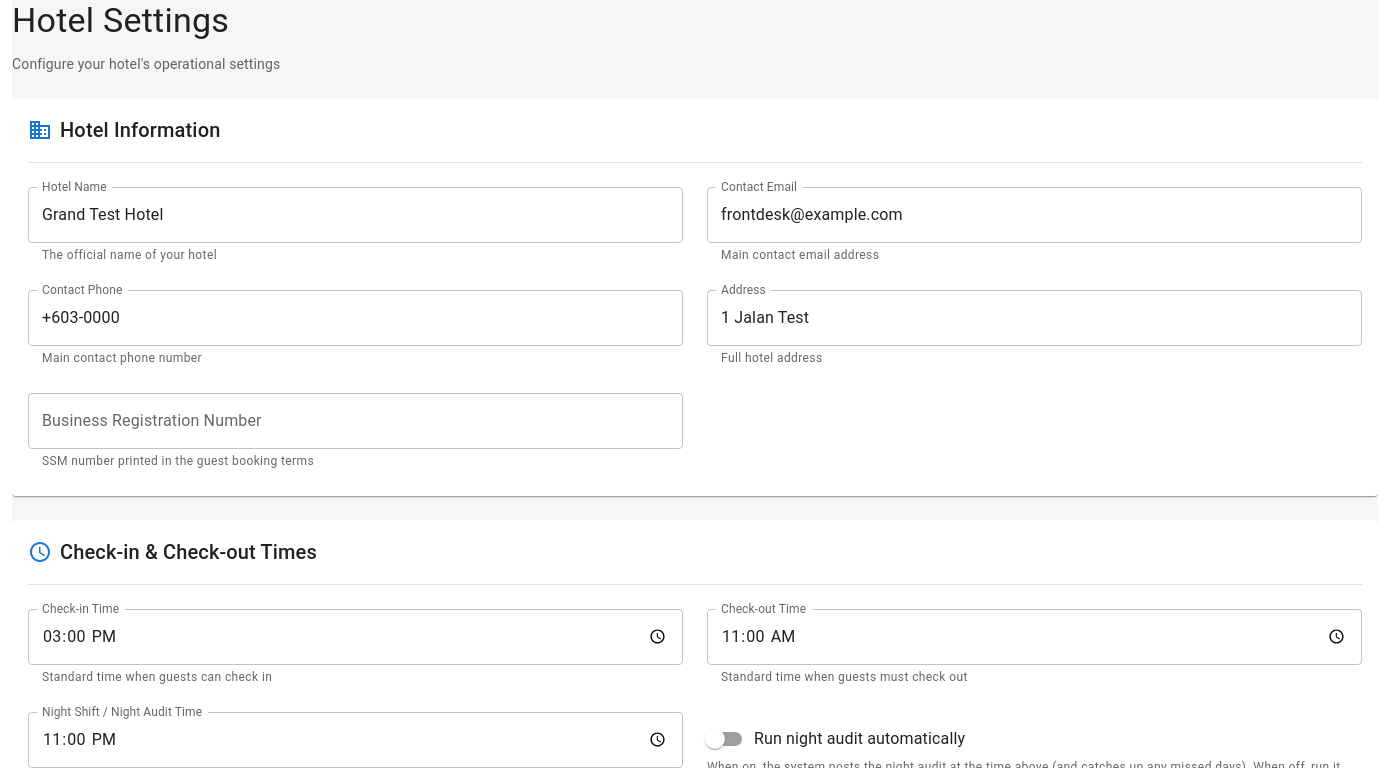
SettingsPage › reloads settings from the server via Reset Changes
The width and height of the screenshot is (1390, 768).
Replace the text in the field labelled "Hotel Name" with "Discarded Edit" at (356,215), box [28, 187, 683, 243]
(page scrolled)
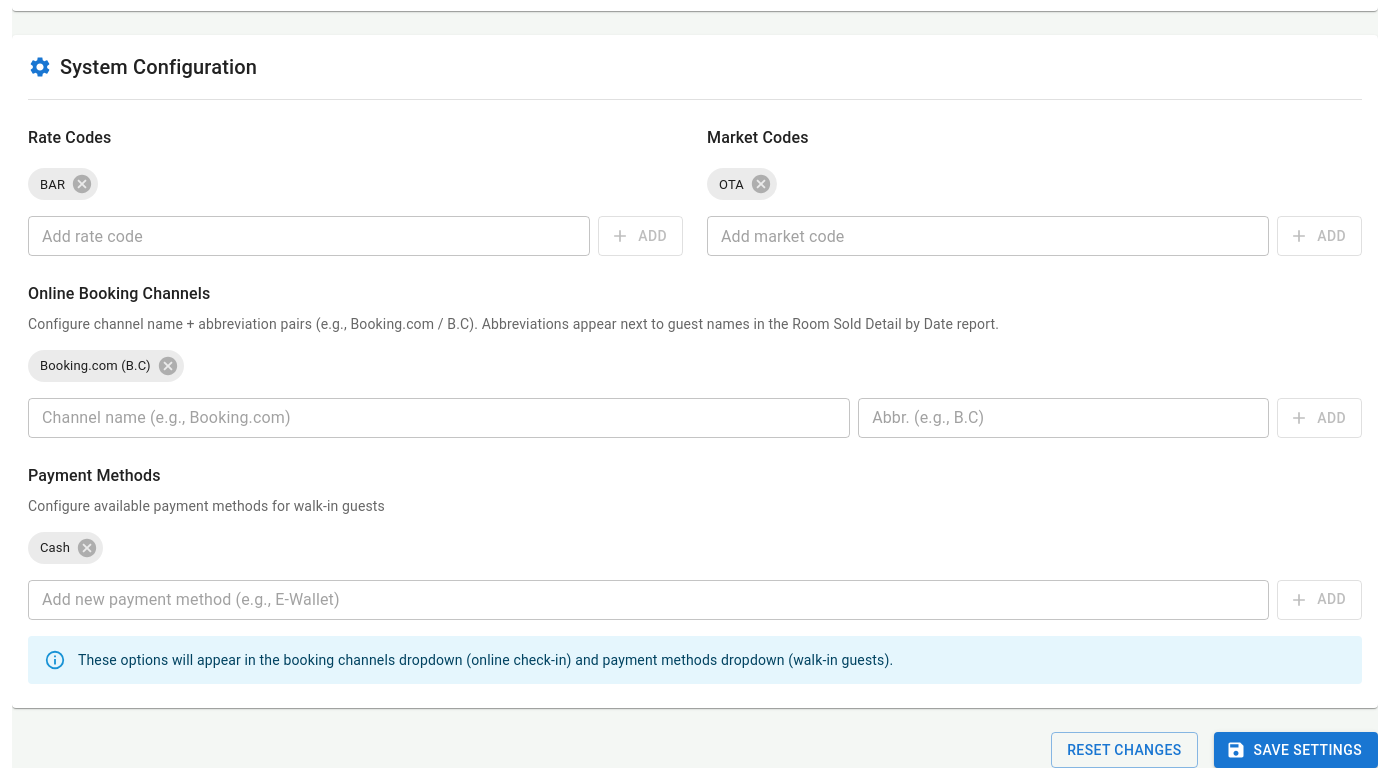
Click the button "Reset Changes" at (1124,750), box [1051, 732, 1198, 767]
(page scrolled)
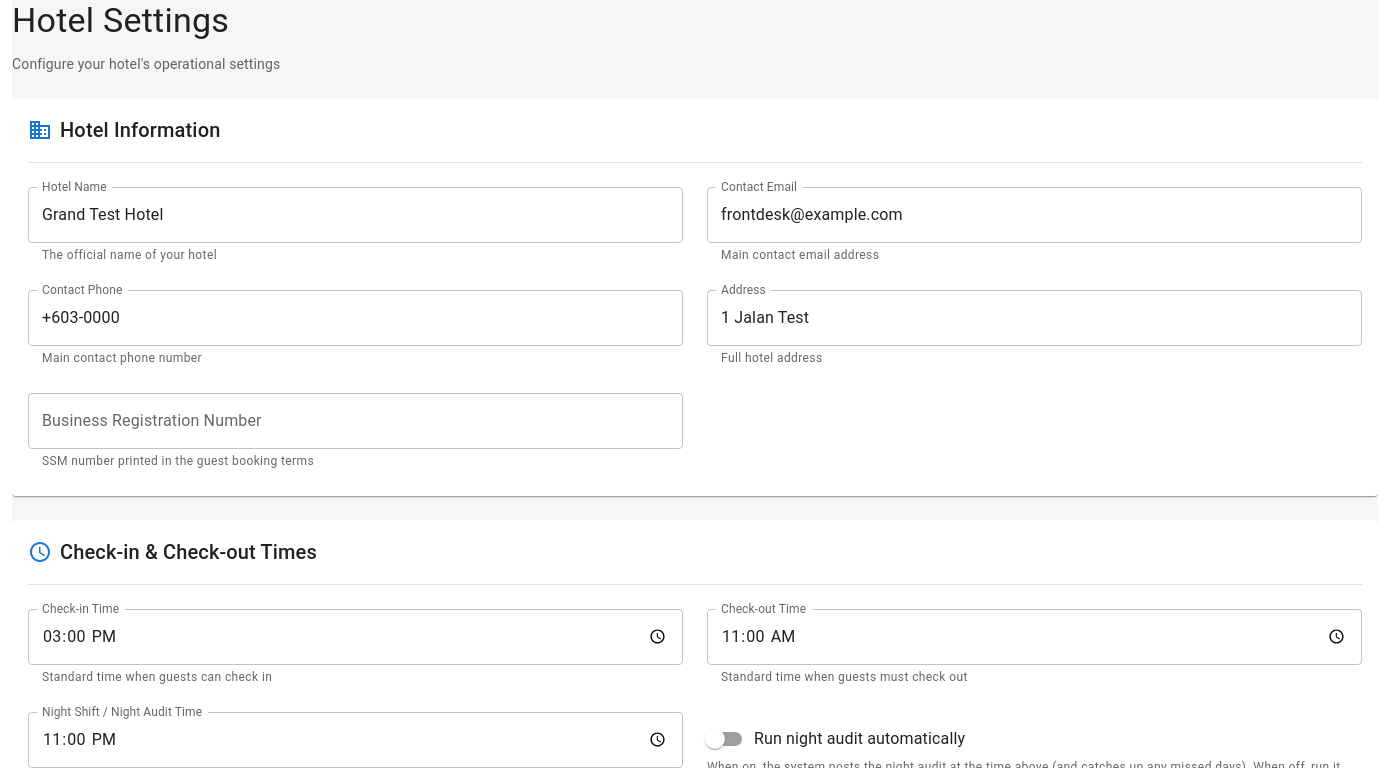
Expected: the field labelled "Hotel Name" holds "Grand Test Hotel", [28, 187, 683, 243]
